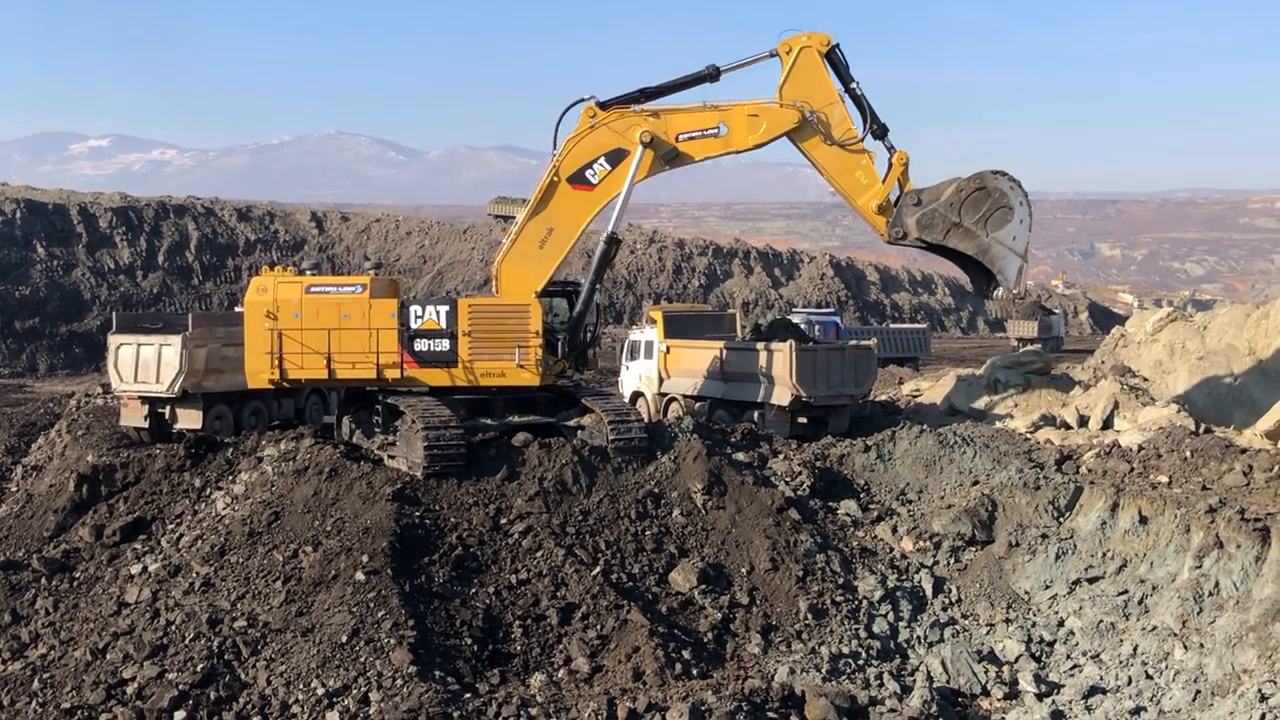empty: (882, 163, 1043, 306)
